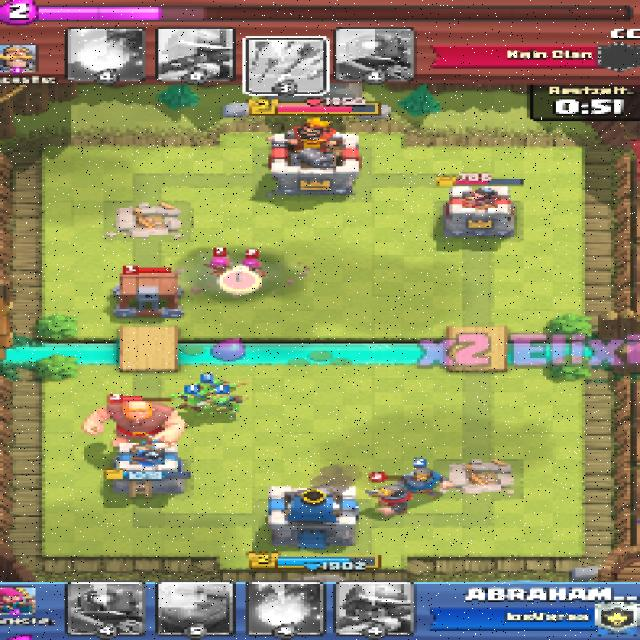Enemy-Archer: (233, 257, 264, 278), (203, 258, 232, 277)
Enemy-Giant: (78, 399, 188, 446)
Enemy-Knight: (363, 482, 409, 517)
Player-GoblinCage: (108, 269, 187, 320)
Player-Knight: (402, 466, 452, 496)
Player-SpearGoblin: (208, 396, 239, 416), (201, 379, 231, 398), (182, 391, 206, 414)
